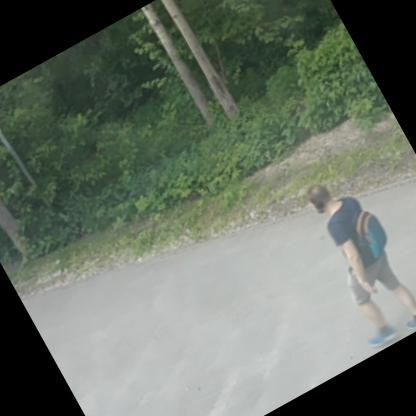Human Body: (286, 165, 415, 354)
